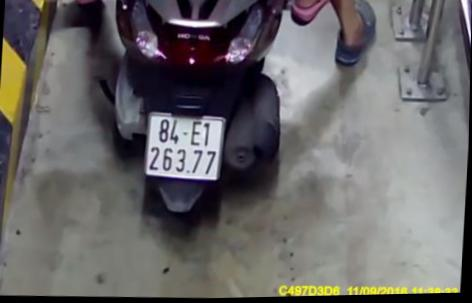LP: (144, 108, 226, 184)
